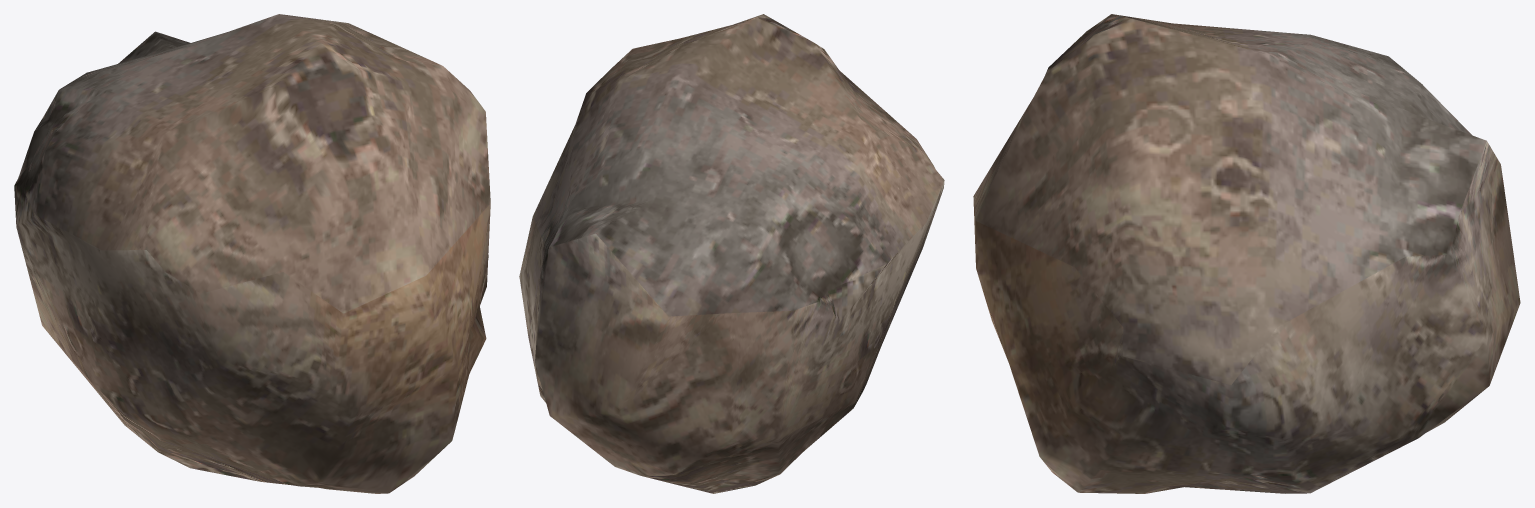
The model's file is asteroid_02.glb.
3 renders of one model, left to right at view 1: azimuth 30°, elevation 25°; view 2: azimuth 150°, elevation 25°; view 3: azimuth 270°, elevation 25°, orthographic. The views are drawn at different scales.
Visible parts, largest first — view 1: Asteroid_02_LOD0; view 2: Asteroid_02_LOD0; view 3: Asteroid_02_LOD0.
Boxes of the visible parts, x1,y1,x2,y2 form: Asteroid_02_LOD0: (14,14,490,493); Asteroid_02_LOD0: (519,14,944,493); Asteroid_02_LOD0: (973,14,1520,493).
Bounding box in the file's own units: 2.02 × 2.19 × 2.3.
Materials: 1 (1 with a texture image).
